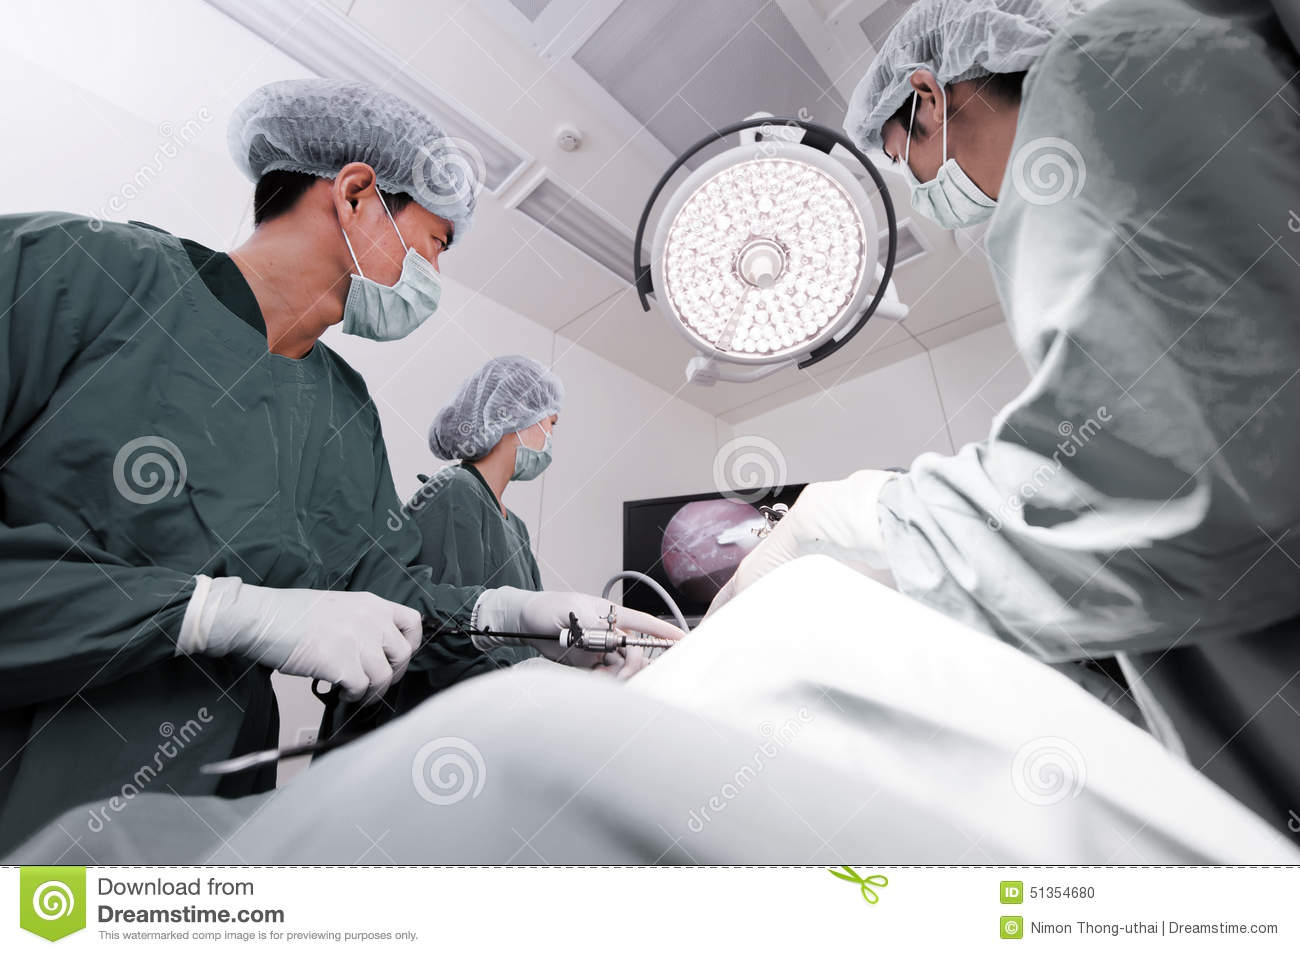mask: (338, 250, 461, 343), (900, 162, 988, 229), (522, 435, 557, 487)
